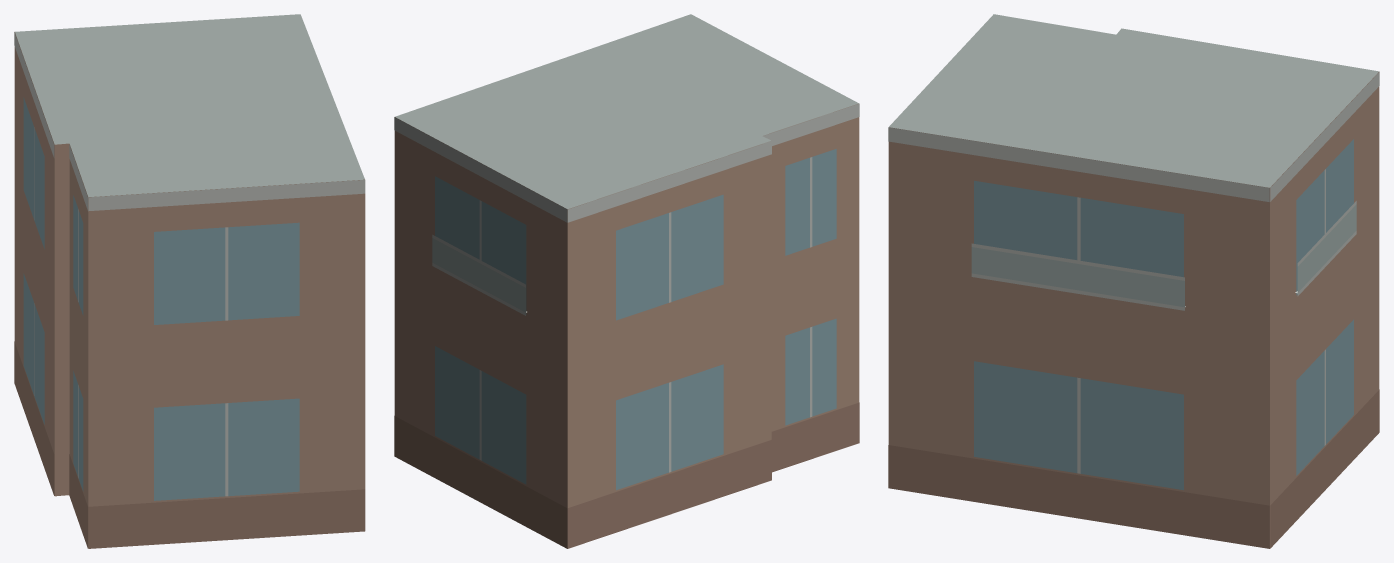
The model's file is survey-upis-32549873.glb.
The picture shows the model from 3 angles, left to right: view 1: azimuth 30°, elevation 25°; view 2: azimuth 150°, elevation 25°; view 3: azimuth 270°, elevation 25°; orthographic projection. The views are drawn at different scales.
Parts seen in each view (by area): view 1: survey-upis-32549873.tmp; view 2: survey-upis-32549873.tmp; view 3: survey-upis-32549873.tmp.
Part boxes in pixels (bbox=[...]): survey-upis-32549873.tmp: bbox=[14, 14, 365, 548]; survey-upis-32549873.tmp: bbox=[394, 14, 859, 548]; survey-upis-32549873.tmp: bbox=[888, 14, 1379, 548].
Bounding box in the file's own units: 6.31 × 6.1 × 7.53.
